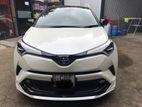car: (13, 4, 122, 104)
